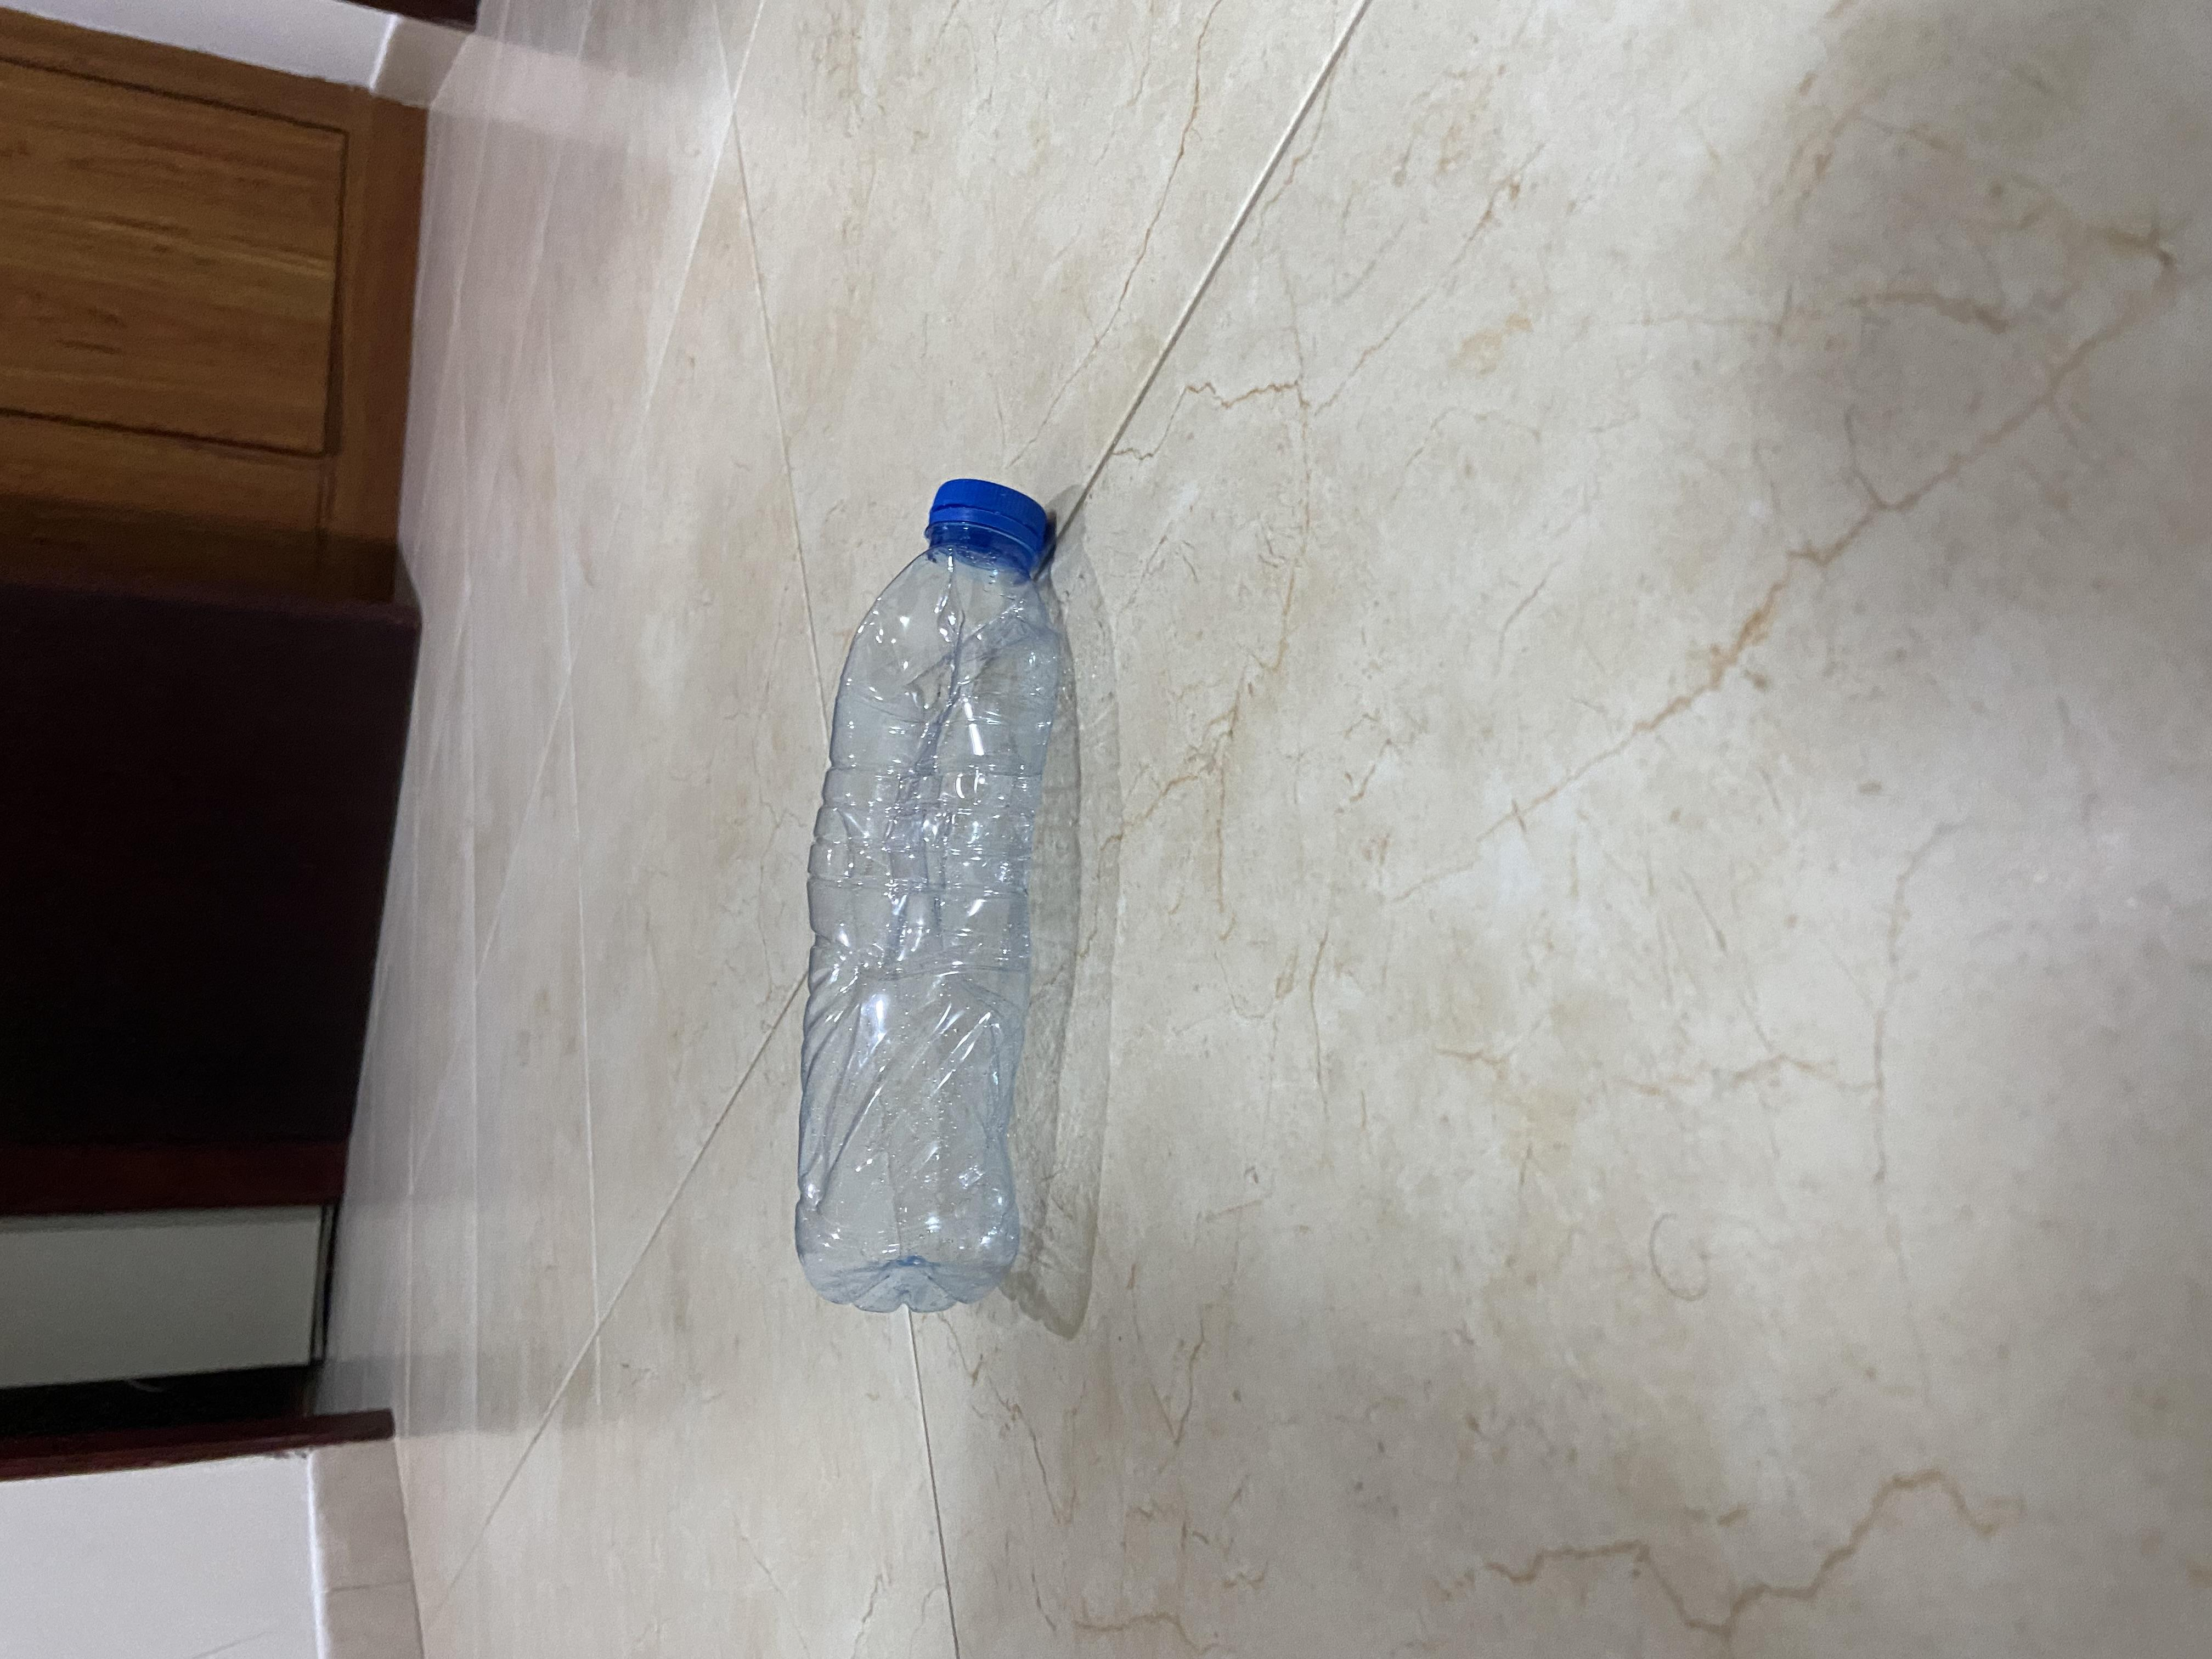bottle: (463, 636, 1594, 772)
